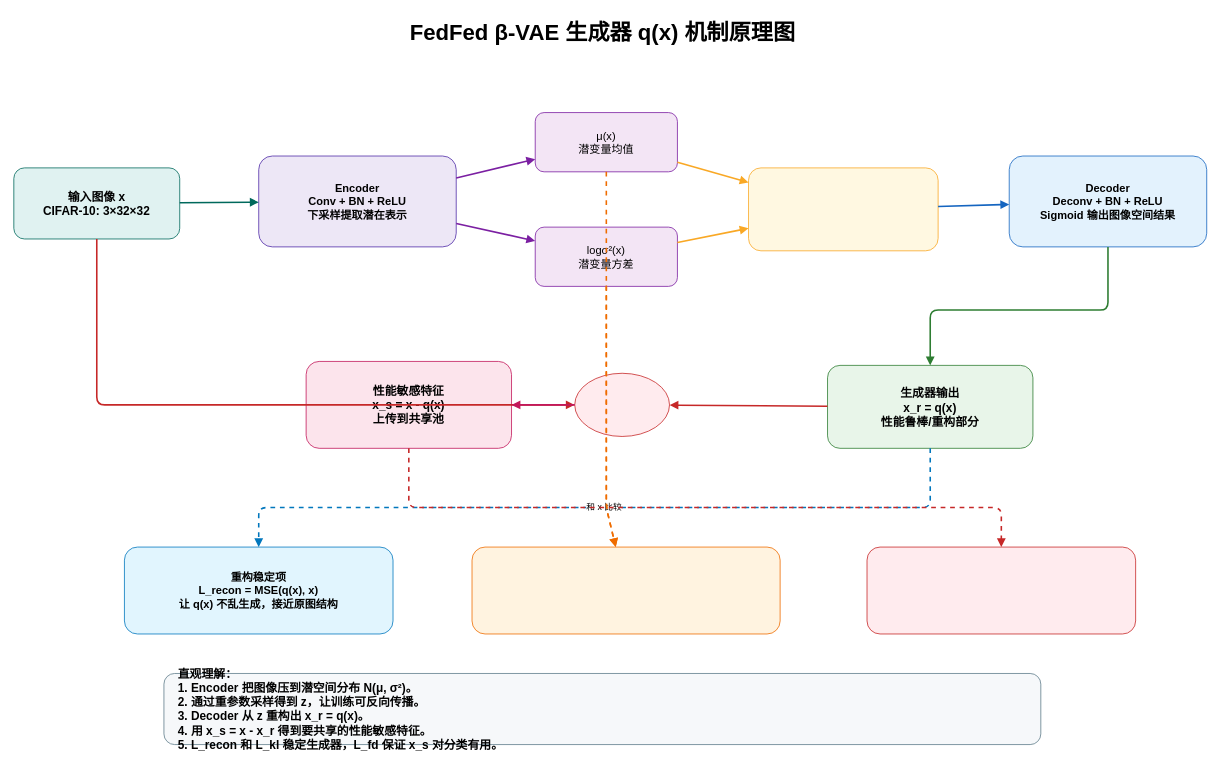
The diagram is 1221 pixels wide and 765 high, and some of its shapes have lost their labels. The shapes that lost their labels are listed below. From the top down, each one's centre as x and y in pixels, then its label:
At (x=843, y=209): "重参数采样 z = μ + σ · ε ε ~ N(0, I)".
At (x=622, y=404): "x - x_r".
At (x=625, y=590): "潜空间正则 L_kl = KL(N(μ, σ²) || N(0, I)) 让 z 空间平滑、稳定、可泛化".
At (x=1001, y=590): "分类可用性约束 L_fd = CE(f(x_s), y) 保证 x_s 保留类别判别信息".
